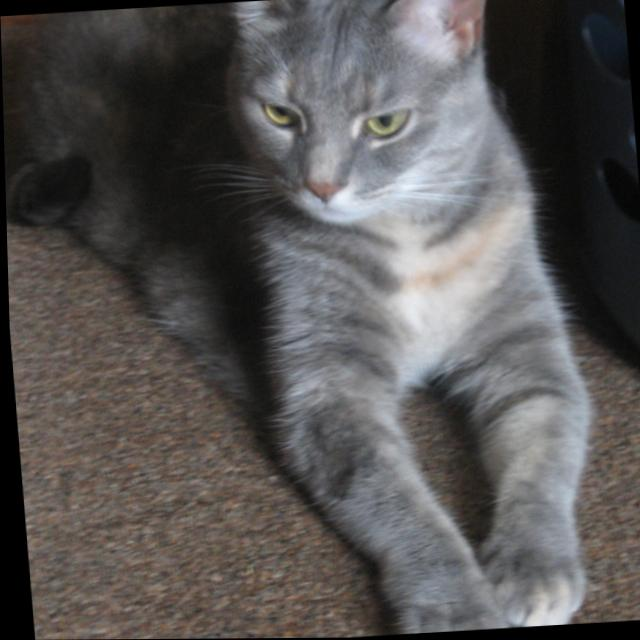animals: (219, 0, 488, 204)
